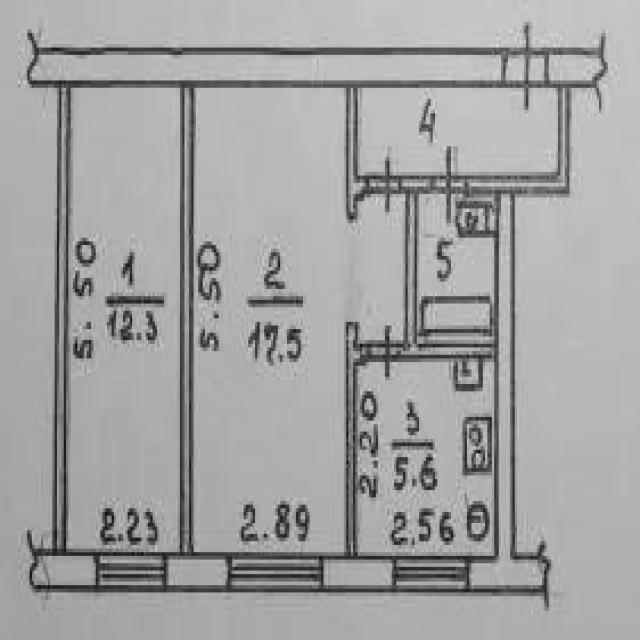Bathrooms: (420, 195, 493, 342)
Corridors: (359, 89, 557, 172), (359, 195, 404, 338)
Doors: (500, 22, 549, 113), (430, 143, 467, 228), (366, 320, 405, 382), (367, 154, 400, 217), (345, 221, 359, 321)
LBwalls: (470, 193, 554, 617), (24, 25, 502, 89), (548, 27, 612, 115), (23, 523, 95, 593), (323, 554, 392, 594), (165, 551, 229, 592)
Offices: (194, 89, 345, 555), (69, 90, 179, 551), (360, 364, 493, 556)
Walls: (399, 173, 496, 359), (466, 84, 570, 198), (180, 88, 194, 551), (55, 89, 67, 548), (344, 320, 366, 555), (346, 89, 367, 223)
Windows: (227, 553, 324, 592), (95, 549, 169, 592), (391, 554, 470, 592)
